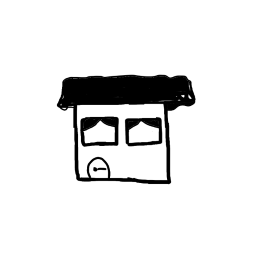door: (83, 154, 115, 186)
open_window: (78, 113, 123, 150), (123, 114, 164, 150)
shaded_roof: (51, 67, 198, 112)
small_house: (1, 0, 257, 260)
wall: (68, 100, 176, 188)
